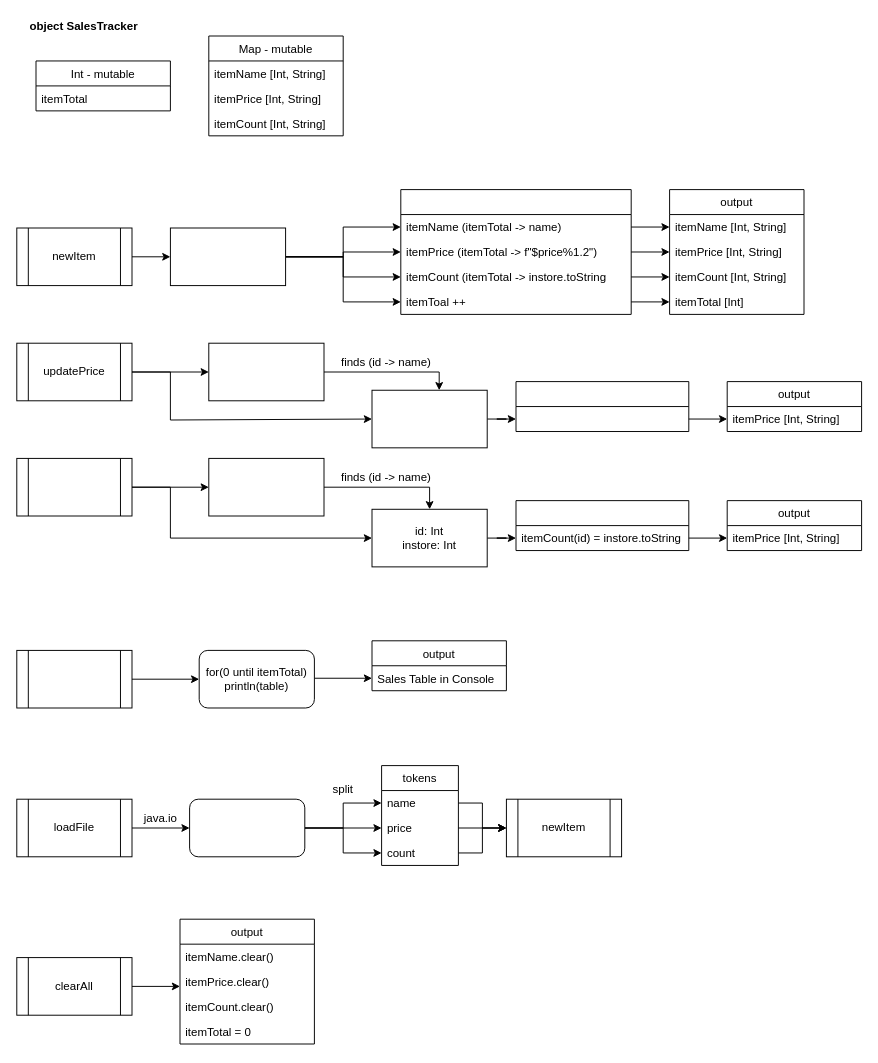
Some shapes in this 878 by 1063 pixel diagram are drawn without their labels. Each missing label, with the centre of its shape:
for(line<- file): pixel 247 827
id: Int price: Double: pixel 429 418
itemPrice(id) = f"$price%1.2": pixel 602 406
name: String instore: Int: pixel 266 486
name: String price: Double: pixel 266 371
name: String price: Double instore: Int: pixel 227 256
printTable: pixel 74 678
updateCount: pixel 74 486
